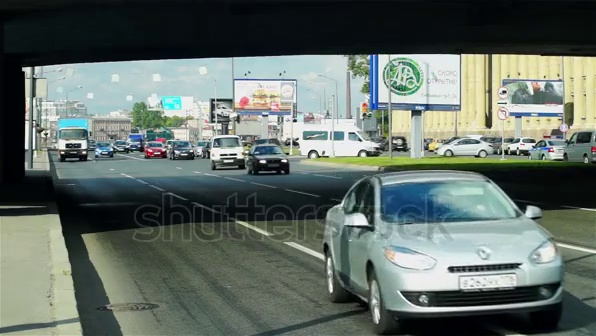licenseplate: (462, 272, 517, 289)
